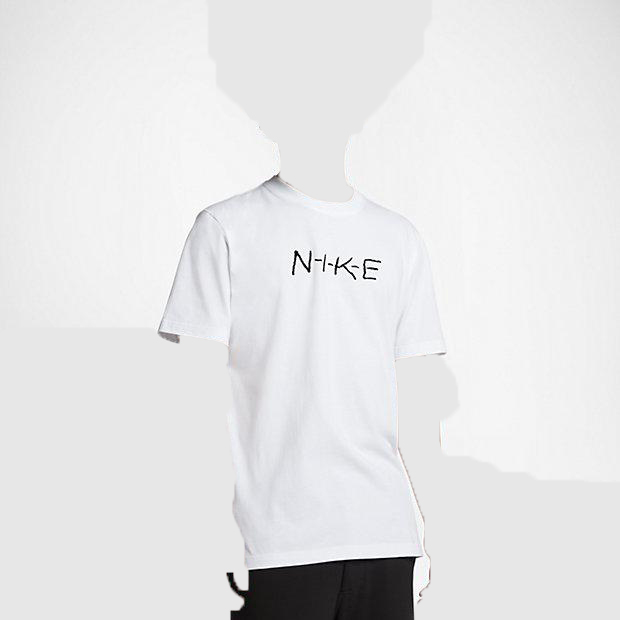teeshirt: (149, 174, 473, 568)
